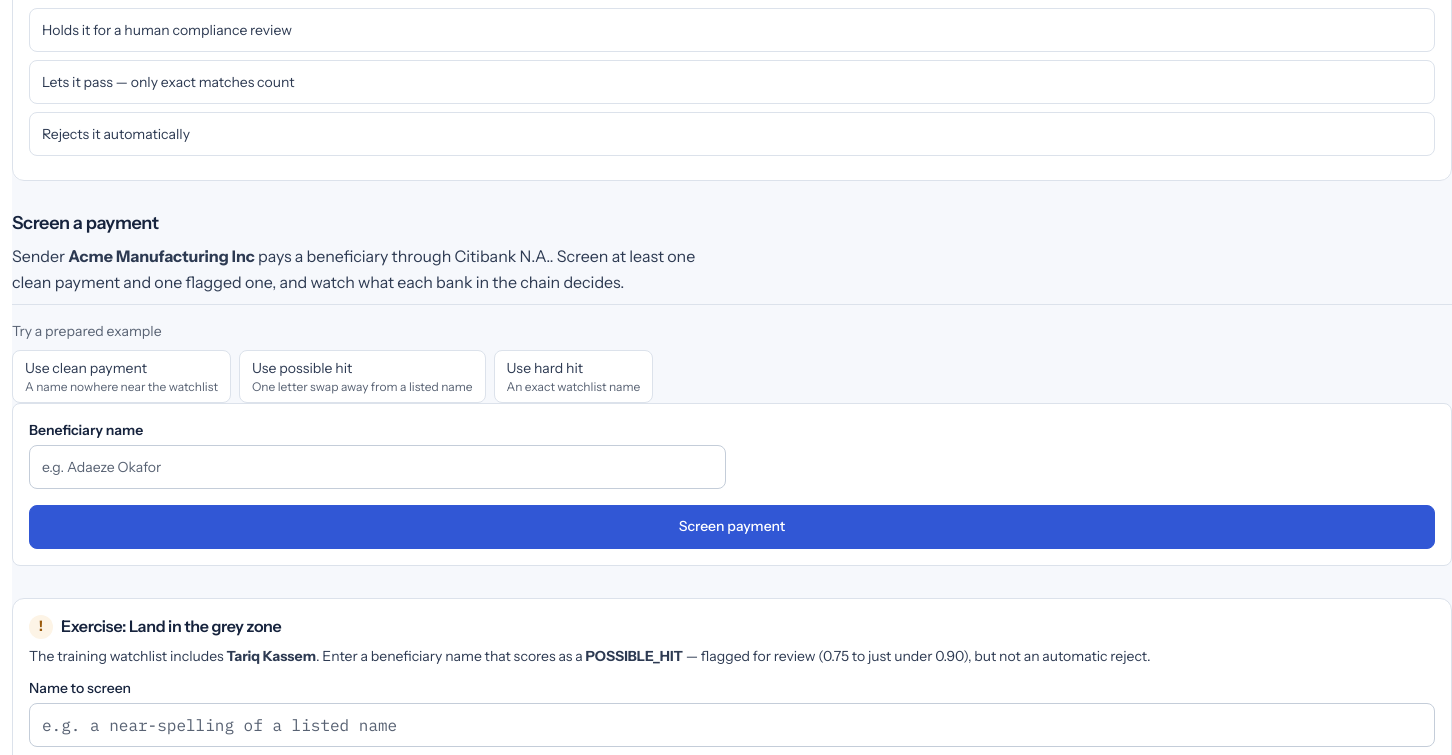
SanctionsContent › shows BLOCKED and the blocked hop for a hard hit
(page scrolled)
Click the button "Use hard hit An exact watchlist name" at point(573, 376), box [494,350,653,403]
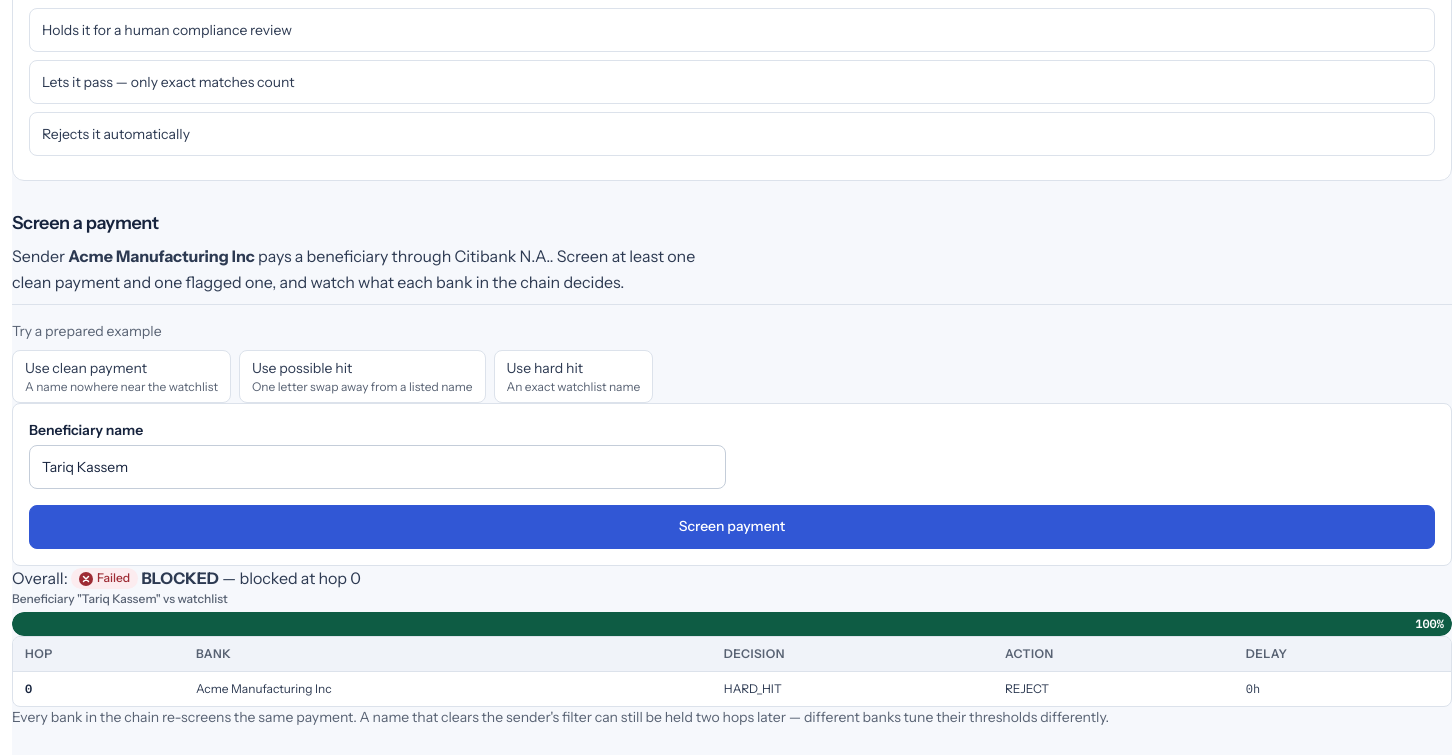
expect the text "BLOCKED" is shown: met, box [141,568,219,588]
expect the text "Overall: Failed BLOCKED — blocked at hop 0" is shown: met, box [12,568,361,589]
